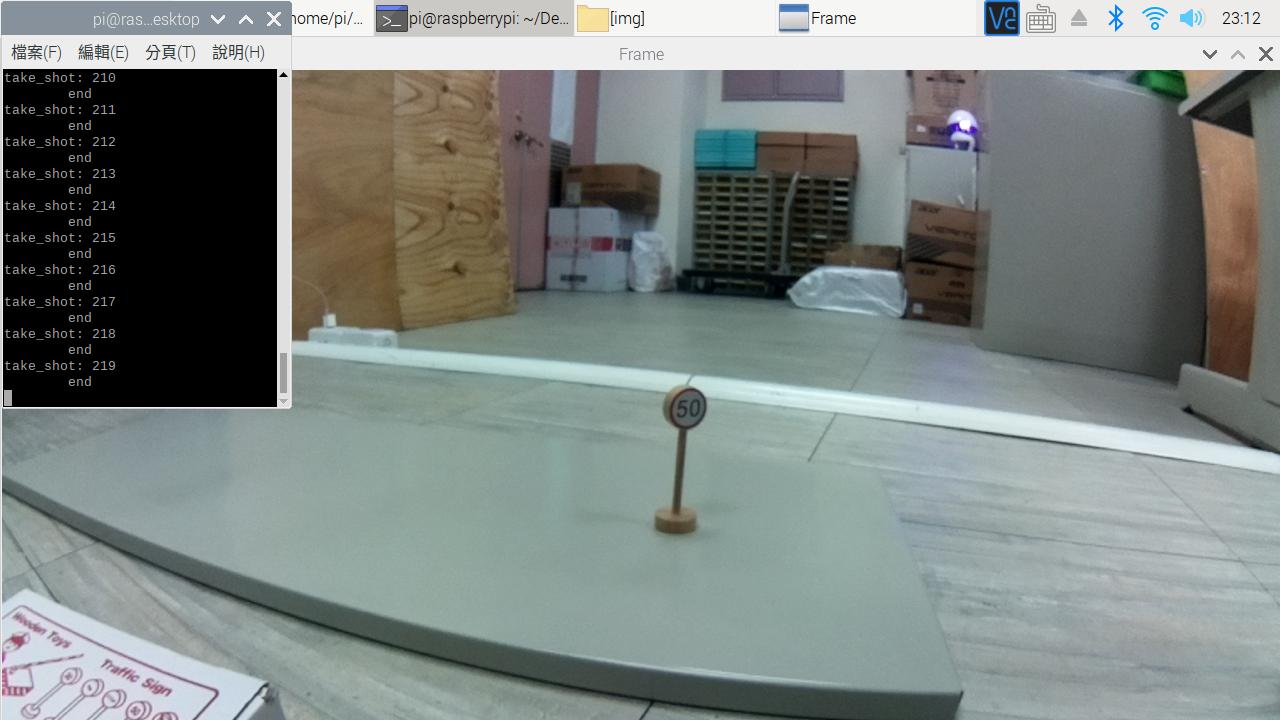Speed50: (647, 375, 727, 444)
